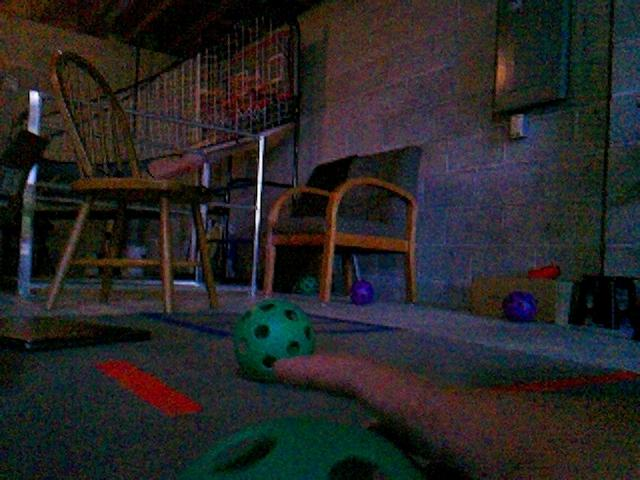Green: (173, 413, 424, 479), (228, 297, 318, 382), (292, 274, 319, 294)
Purple: (500, 289, 539, 322), (348, 279, 374, 305)
